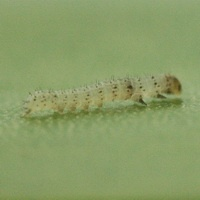insect: (23, 74, 181, 115)
